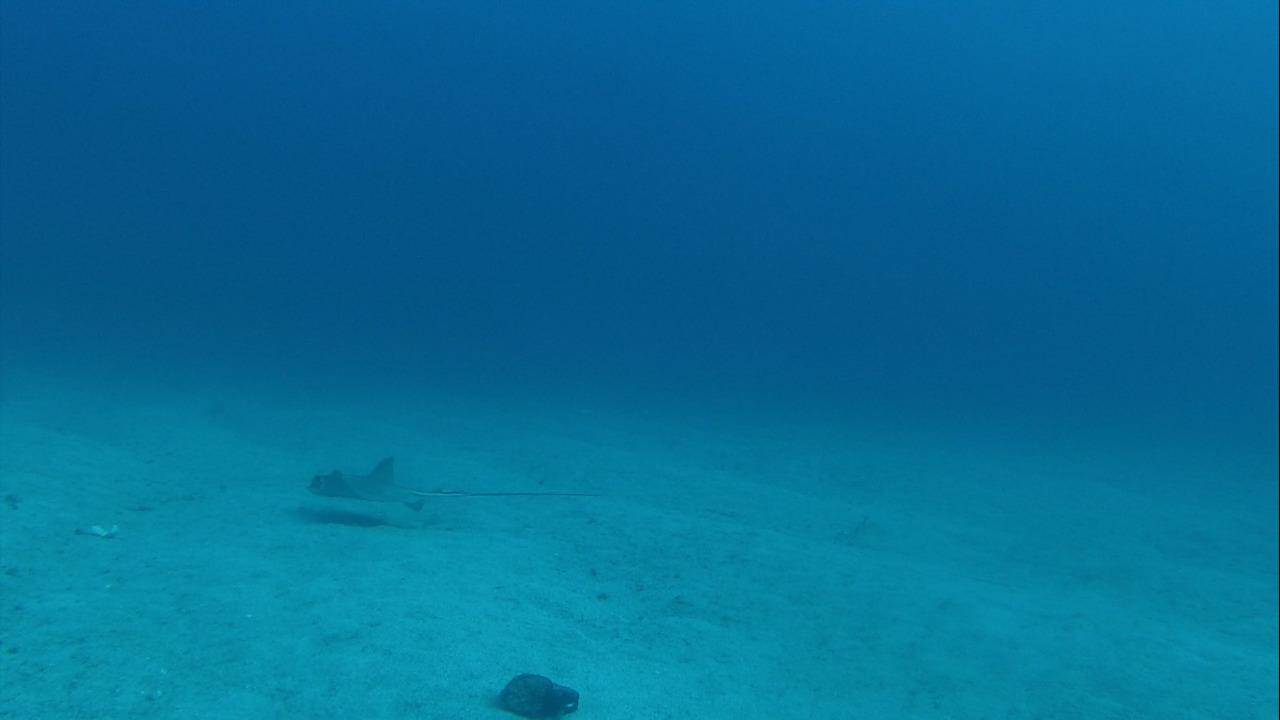myliobatis: (297, 448, 613, 521)
